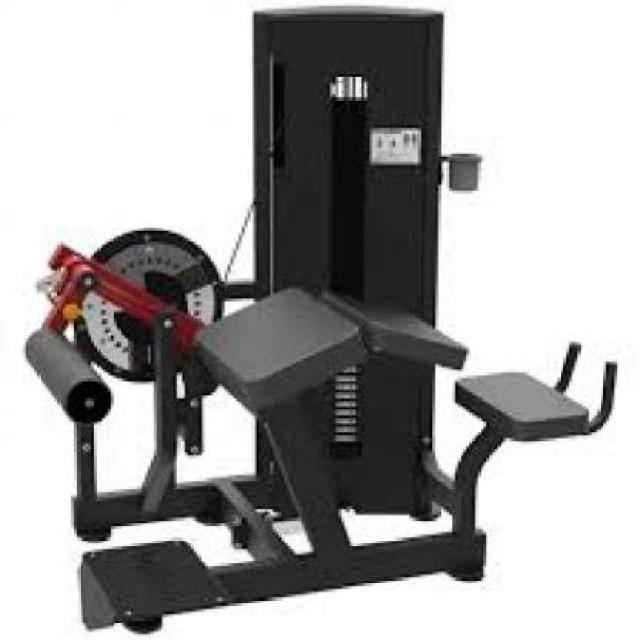reg curl machine: (14, 7, 626, 636)
